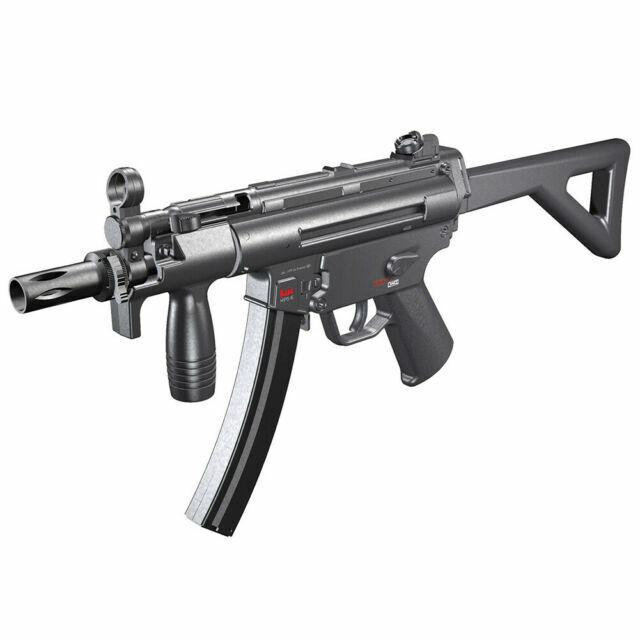SMG: (9, 133, 632, 540)
